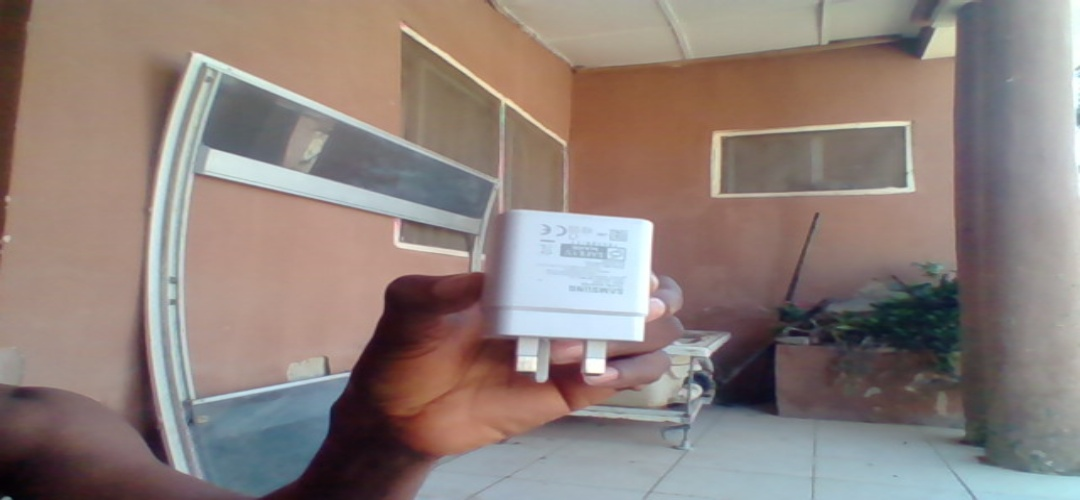phone_charger: (486, 205, 655, 381)
